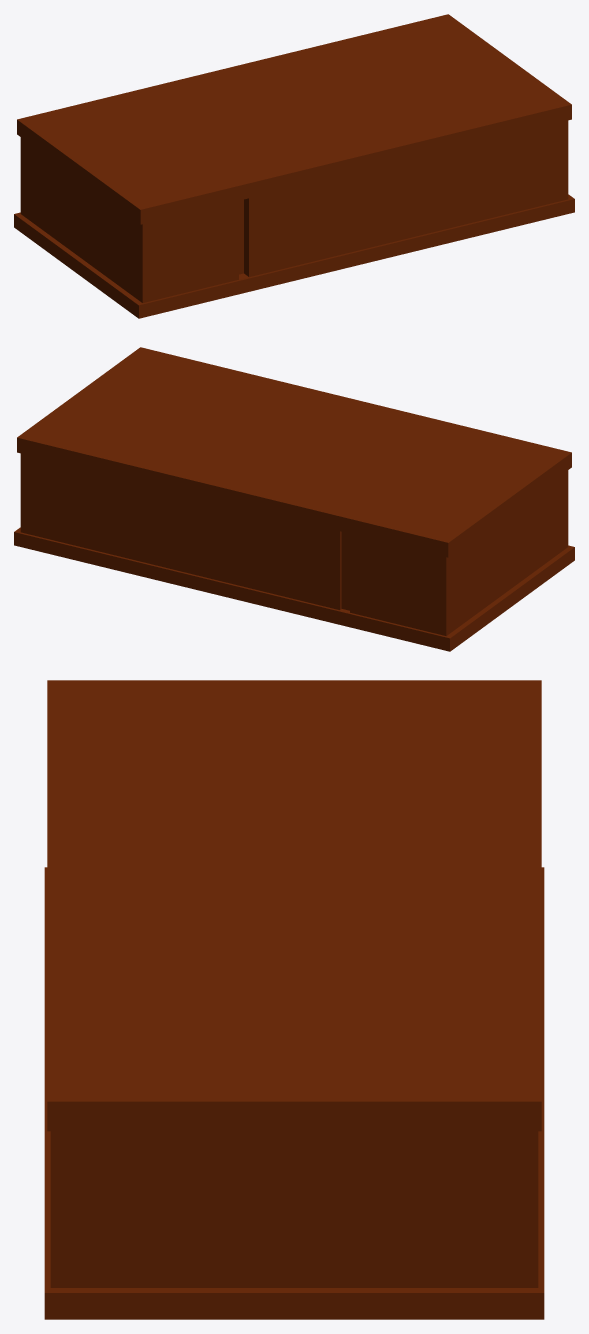
Rendered from enemy3.fbx.
3 views of the same model, one above another, from view 1: azimuth 30°, elevation 25°; view 2: azimuth 150°, elevation 25°; view 3: azimuth 270°, elevation 25° (orthographic). The views are drawn at different scales.
Parts seen in each view (by area): view 1: Cube.001; view 2: Cube.001; view 3: Cube.001.
Boxes of the visible parts, left/top/right/bottom form: Cube.001: left=14, top=14, right=574, bottom=318; Cube.001: left=14, top=347, right=574, bottom=651; Cube.001: left=44, top=680, right=544, bottom=1319.
Bounding box in the file's own units: 1834 × 434 × 910.
